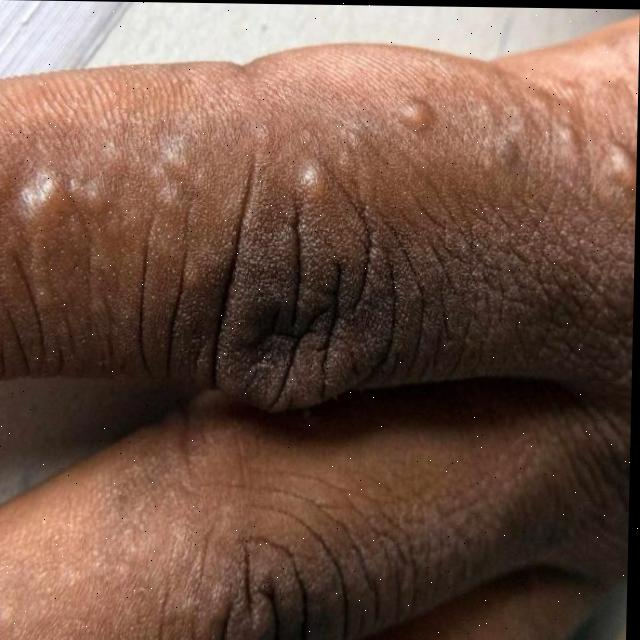Eczema: (23, 101, 638, 259)
